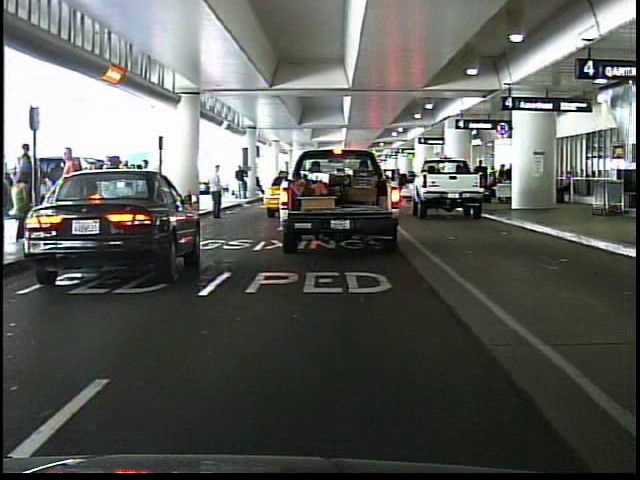person: (65, 146, 94, 234), (205, 162, 228, 224), (393, 167, 409, 211), (236, 162, 254, 198)
